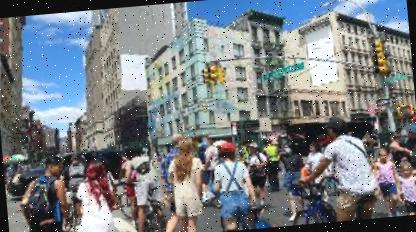person: (308, 110, 378, 221), (151, 132, 213, 232), (206, 139, 266, 232), (13, 151, 75, 232), (67, 153, 124, 232)
